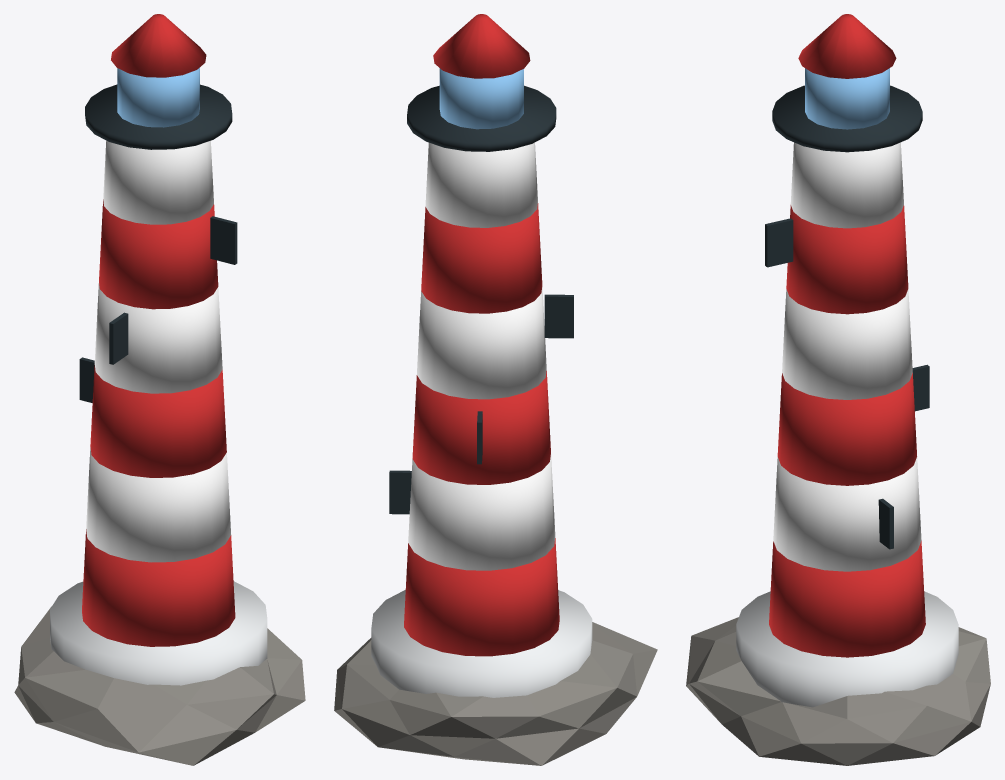
File: Lighthouse.glb
The picture shows the model from 3 angles, left to right: view 1: azimuth 30°, elevation 25°; view 2: azimuth 150°, elevation 25°; view 3: azimuth 270°, elevation 25°; orthographic projection.
Visible parts, largest first — view 1: Lighthouse; view 2: Lighthouse; view 3: Lighthouse.
Part boxes in pixels (x1,y1,x2,y2): Lighthouse: [14, 14, 305, 765]; Lighthouse: [334, 14, 657, 765]; Lighthouse: [686, 14, 990, 765].
Size of the model in its own units: 9.13 by 24.01 by 9.32.
